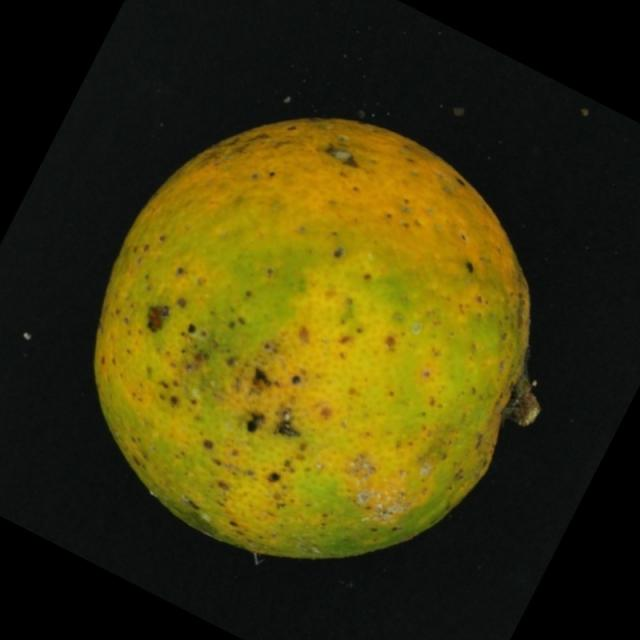grenning: (96, 100, 545, 568)
